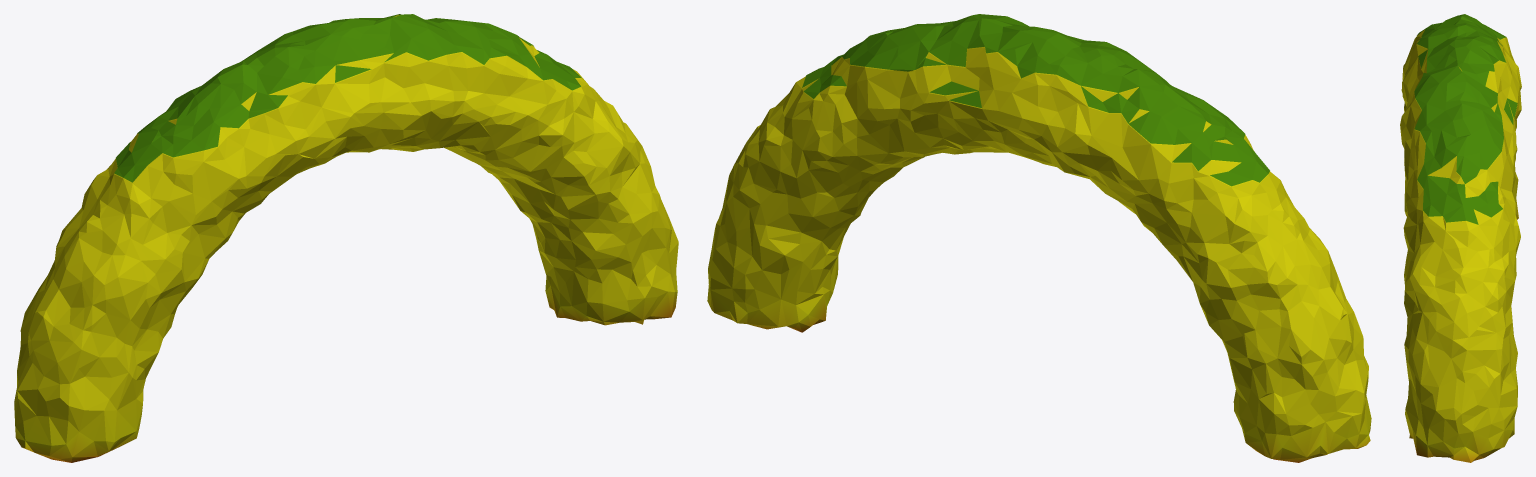
File: canyon_arch_1.glb
The picture shows the model from 3 angles, left to right: view 1: azimuth 30°, elevation 25°; view 2: azimuth 150°, elevation 25°; view 3: azimuth 270°, elevation 25°; orthographic projection. The views are drawn at different scales.
Parts seen in each view (by area): view 1: canyon_arch_1.002; view 2: canyon_arch_1.002; view 3: canyon_arch_1.002.
Boxes of the visible parts, x1,y1,x2,y2 form: canyon_arch_1.002: [14, 14, 678, 462]; canyon_arch_1.002: [707, 14, 1371, 462]; canyon_arch_1.002: [1400, 14, 1521, 462].
Size of what is drawn, in the model's own units: 70.22 by 36.14 by 13.65.
